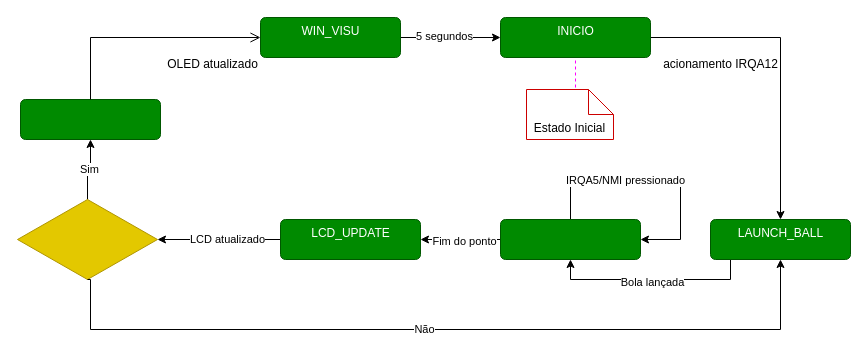
Some shapes in this 868 by 355 pixel diagram are drawn without their labels. The shapes that lost their labels are listed below. From the top down, each one's centre as x and y in pixels, then its label:
point 90,119: WIN_SCREEN
point 87,239: Jogador venceu?
point 570,239: PLAYER_TURN
